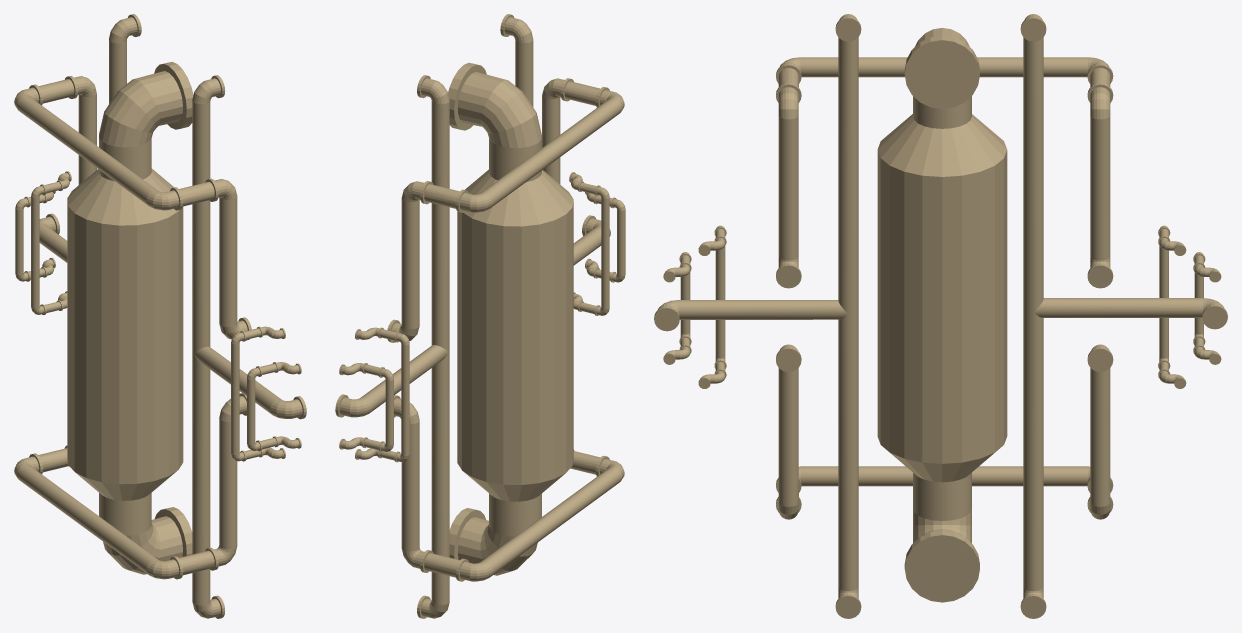
File: complicated_pipe.fbx
3 renders of one model, left to right at view 1: azimuth 30°, elevation 25°; view 2: azimuth 150°, elevation 25°; view 3: azimuth 270°, elevation 25°, orthographic. The views are drawn at different scales.
Parts seen in each view (by area): view 1: giant_pipe, T_pipe_2, curve_pipe_2, curve_pipe_1, T_pipe_1, curve_pipe_med_1, curve_pipe_med_2, curve_pipe_small_2, curve_pipe_small_1; view 2: giant_pipe, T_pipe_1, curve_pipe_2, curve_pipe_1, T_pipe_2, curve_pipe_med_2, curve_pipe_med_1, curve_pipe_small_1, curve_pipe_small_2; view 3: giant_pipe, T_pipe_2, T_pipe_1, curve_pipe_2, curve_pipe_1, curve_pipe_med_1, curve_pipe_med_2, curve_pipe_small_2, curve_pipe_small_1.
Part boxes in pixels (<box>): giant_pipe: <box>67,62,193,574</box>; T_pipe_2: <box>192,75,306,618</box>; curve_pipe_2: <box>14,76,251,340</box>; curve_pipe_1: <box>14,393,246,579</box>; T_pipe_1: <box>39,14,141,262</box>; curve_pipe_med_1: <box>231,326,285,461</box>; curve_pipe_med_2: <box>31,171,71,314</box>; curve_pipe_small_2: <box>247,362,301,451</box>; curve_pipe_small_1: <box>15,191,55,281</box>; giant_pipe: <box>448,62,573,575</box>; T_pipe_1: <box>335,75,449,618</box>; curve_pipe_2: <box>387,78,624,342</box>; curve_pipe_1: <box>394,395,624,581</box>; T_pipe_2: <box>500,14,610,265</box>; curve_pipe_med_2: <box>355,327,409,462</box>; curve_pipe_med_1: <box>569,172,609,315</box>; curve_pipe_small_1: <box>339,363,393,452</box>; curve_pipe_small_2: <box>585,192,625,282</box>; giant_pipe: <box>877,28,1007,602</box>; T_pipe_2: <box>654,14,861,618</box>; T_pipe_1: <box>1020,14,1227,618</box>; curve_pipe_2: <box>776,57,1113,288</box>; curve_pipe_1: <box>776,344,1113,519</box>; curve_pipe_med_1: <box>698,225,726,388</box>; curve_pipe_med_2: <box>1158,225,1186,388</box>; curve_pipe_small_2: <box>663,252,691,364</box>; curve_pipe_small_1: <box>1193,252,1221,364</box>.
Bounding box in the file's own units: 0.7574 × 3.76 × 3.26.
